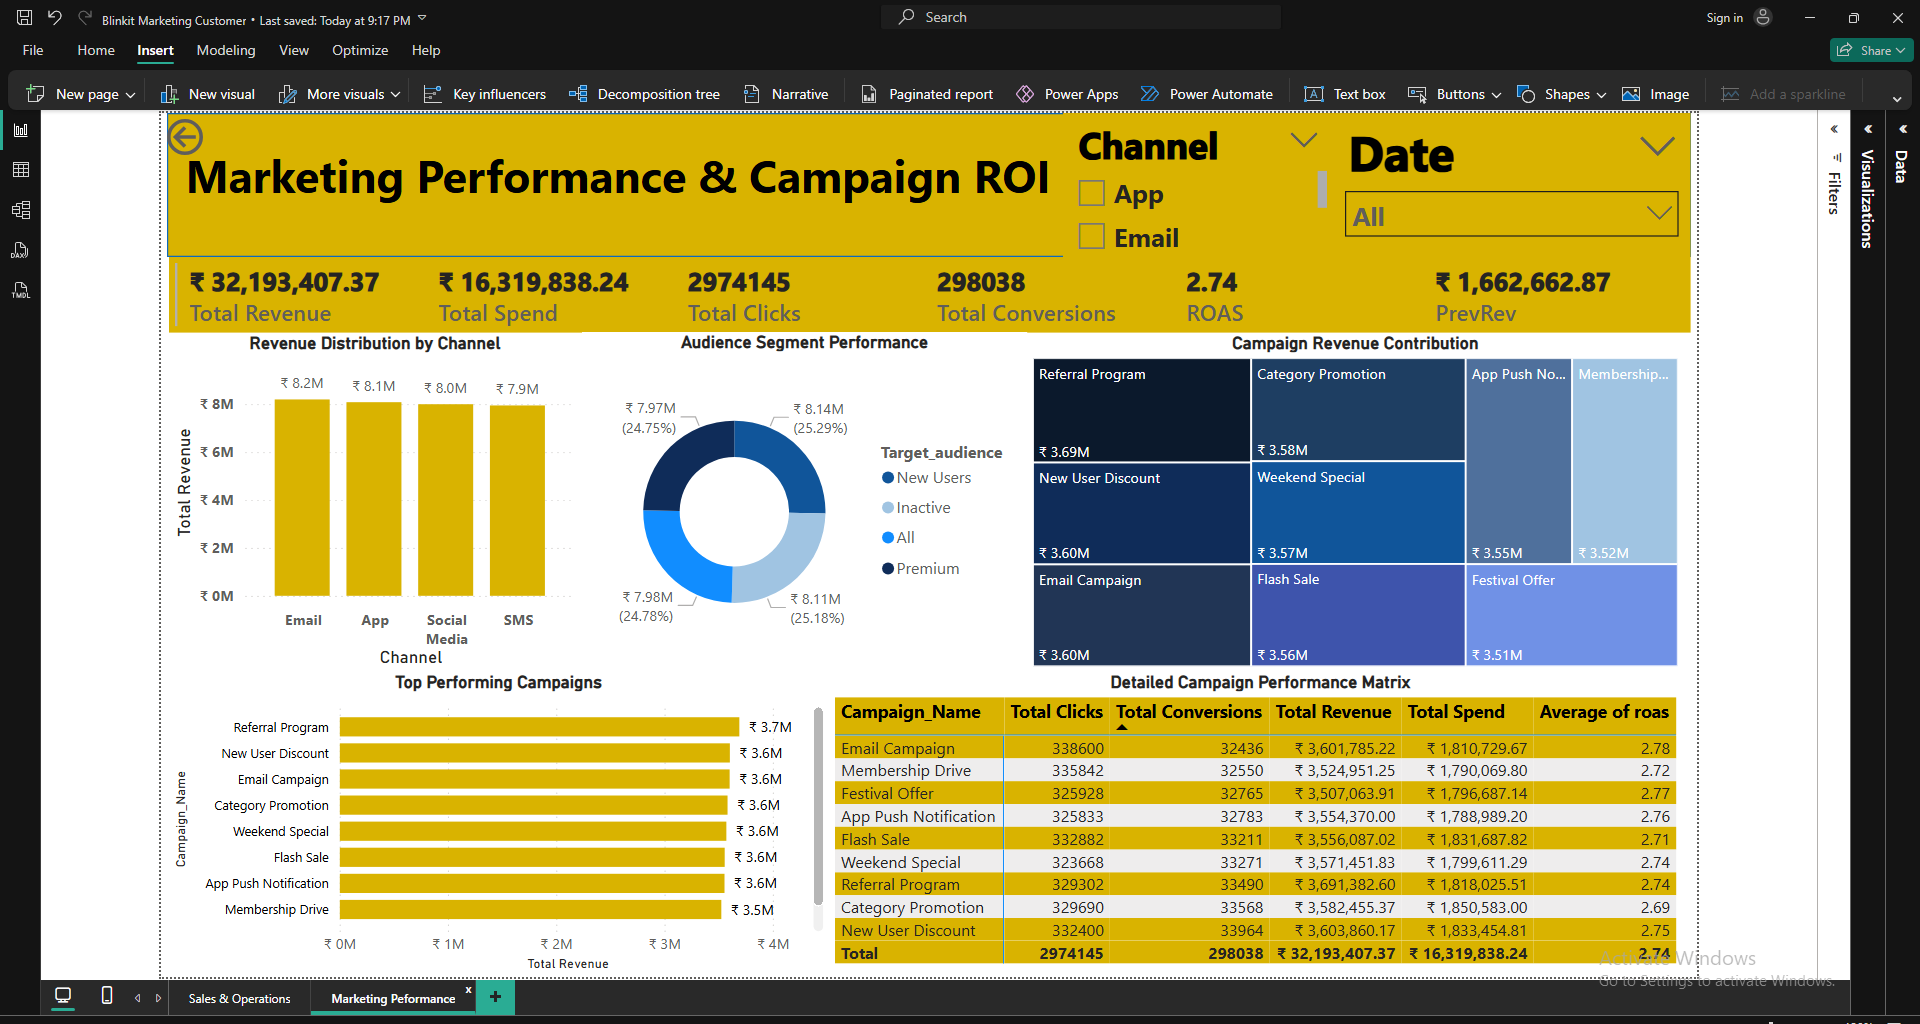

Layout of this report page (visuals, bound fields, positions):
{"tool":"powerbi","page":{"name":"Marketing Peformance","canvas":[1280,720],"ordinal":1},"visuals":[{"type":"shape","box":[5,0,1270,120],"z":0},{"type":"textbox","box":[10,21.7,741.7,75],"z":1000},{"type":"slicer","fields":{"Values":["blinkit_marketing_performance.channel"]},"box":[751.7,0,225,120],"z":2000},{"type":"slicer","fields":{"Values":["Calendar.Month Year"]},"box":[976.7,0,298.3,120],"z":3000},{"type":"multiRowCard","fields":{"Values":["blinkit_marketing_performance.Measure","blinkit_marketing_performance.Total Spend","blinkit_marketing_performance.Total Clicks","blinkit_marketing_performance.Total Conversions","Avg(blinkit_marketing_performance.roas)","blinkit_marketing_performance.PrevRev"]},"box":[7,120,1268,63],"z":4000},{"type":"actionButton","box":[0,0,100,40],"z":5000},{"type":"clusteredColumnChart","title":"Revenue Distribution by Channel","fields":{"Category":["blinkit_marketing_performance.channel"],"Y":["blinkit_marketing_performance.Total Revenue"]},"box":[6,183,345,283],"z":6000},{"type":"barChart","title":"Top Performing Campaigns","fields":{"Category":["blinkit_marketing_performance.campaign_name"],"Y":["blinkit_marketing_performance.Total Revenue"]},"box":[6,466,551,254],"z":7000},{"type":"donutChart","title":"Audience Segment Performance","fields":{"Category":["blinkit_marketing_performance.target_audience"],"Y":["blinkit_marketing_performance.Total Revenue"]},"box":[350.9,182.7,370.9,283.6],"z":8000},{"type":"pivotTable","title":"Detailed Campaign Performance Matrix","fields":{"Rows":["blinkit_marketing_performance.campaign_name"],"Values":["blinkit_marketing_performance.Total Clicks","blinkit_marketing_performance.Total Conversions","blinkit_marketing_performance.Total Revenue","blinkit_marketing_performance.Total Spend","Avg(blinkit_marketing_performance.roas)"]},"box":[557,466,719,254],"z":9000},{"type":"treemap","title":"Campaign Revenue Contribution","fields":{"Group":["blinkit_marketing_performance.campaign_name"],"Values":["blinkit_marketing_performance.Total Revenue"]},"box":[721.8,183.6,547.3,282.7],"z":10000}]}

Visuals, with their boxes on the page's 1280x720 design canvas (x1, y1, x2, y2). These are canvas units, not pixel positions in the 1920x1024 screenshot, which may show the page scaled, cropped or inside an application window:
shape: crop(5, 0, 1275, 120)
textbox: crop(10, 22, 752, 97)
slicer - blinkit_marketing_performance.channel: crop(752, 0, 977, 120)
slicer - Calendar.Month Year: crop(977, 0, 1275, 120)
multiRowCard - blinkit_marketing_performance.Measure x blinkit_marketing_performance.Total Spend: crop(7, 120, 1275, 183)
actionButton: crop(0, 0, 100, 40)
"Revenue Distribution by Channel" clusteredColumnChart: crop(6, 183, 351, 466)
"Top Performing Campaigns" barChart: crop(6, 466, 557, 720)
"Audience Segment Performance" donutChart: crop(351, 183, 722, 466)
"Detailed Campaign Performance Matrix" pivotTable: crop(557, 466, 1276, 720)
"Campaign Revenue Contribution" treemap: crop(722, 184, 1269, 466)
